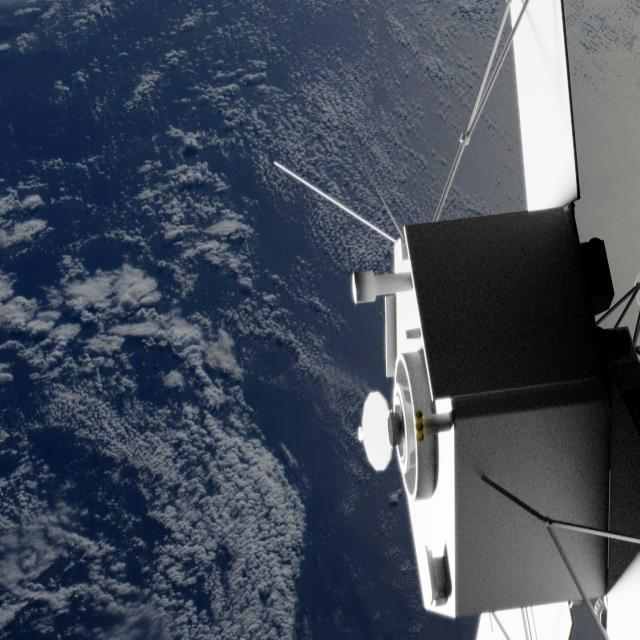satellite: (260, 0, 640, 640)
